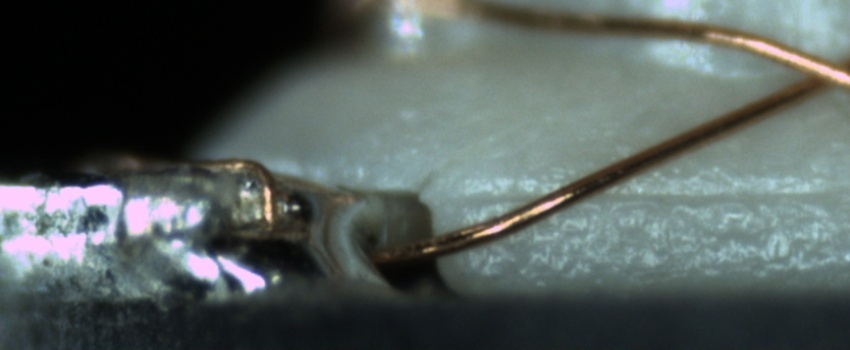CL: (771, 41, 848, 106)
DL: (463, 157, 849, 223)
TE: (112, 153, 282, 230)
